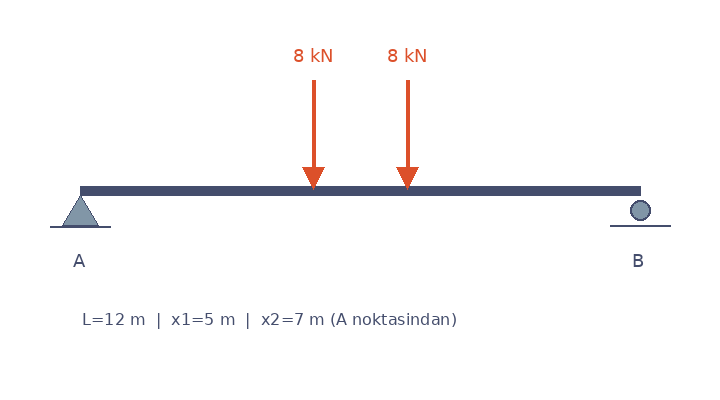pin_support: (61, 190, 99, 226)
point_load: (299, 76, 327, 190), (393, 76, 421, 190)
roller_support: (625, 196, 655, 227)
